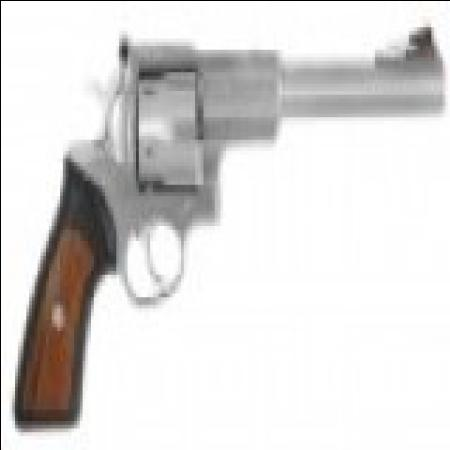Pistol: (11, 18, 439, 416)
